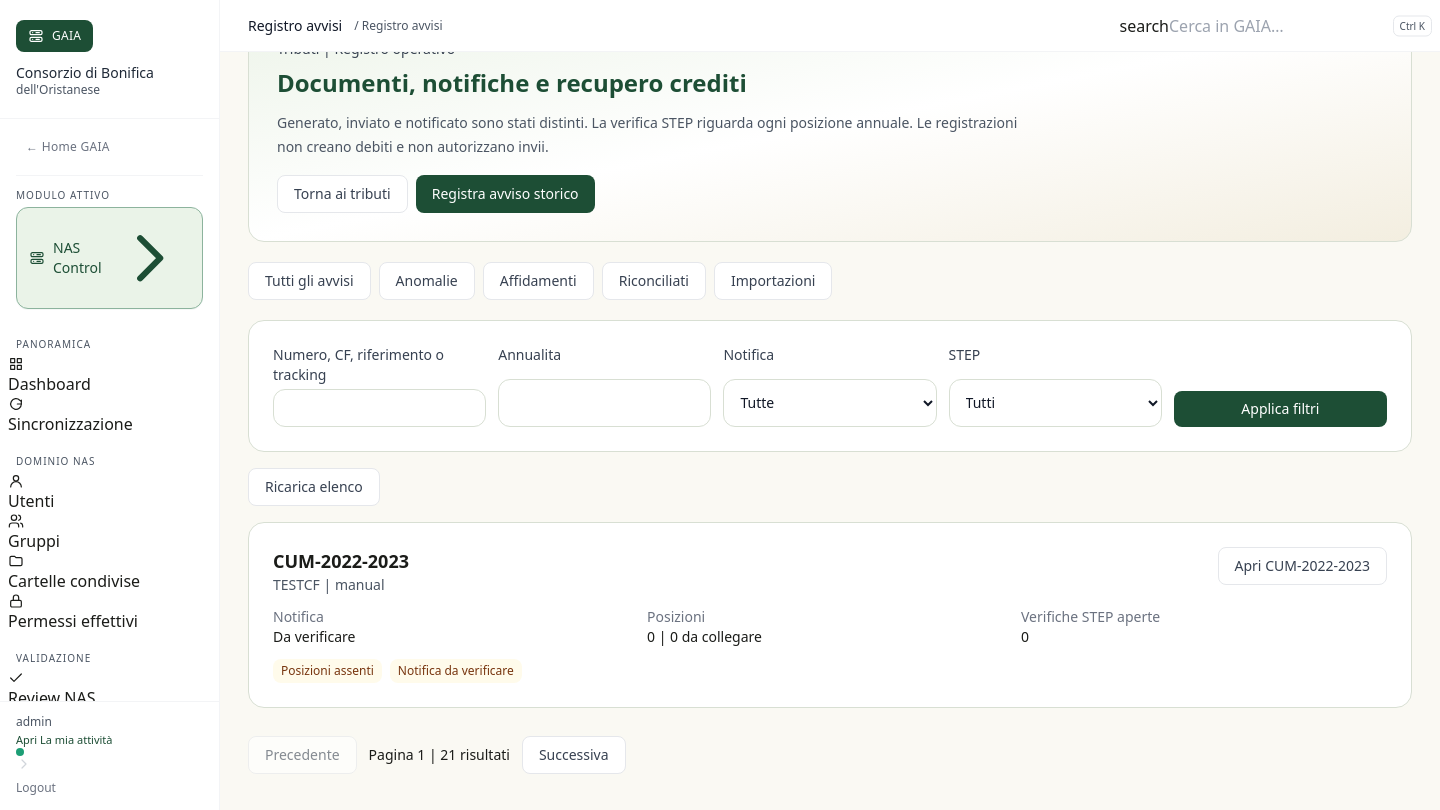
it: registro avvisi workspace › applies all filters, resets page and supports refresh
(page scrolled)
Check: the button "Apri CUM-2022-2023" is shown, box [1218, 547, 1387, 585]
Click the button "Successiva".
click(574, 755)  # box [522, 736, 626, 774]
(page scrolled)
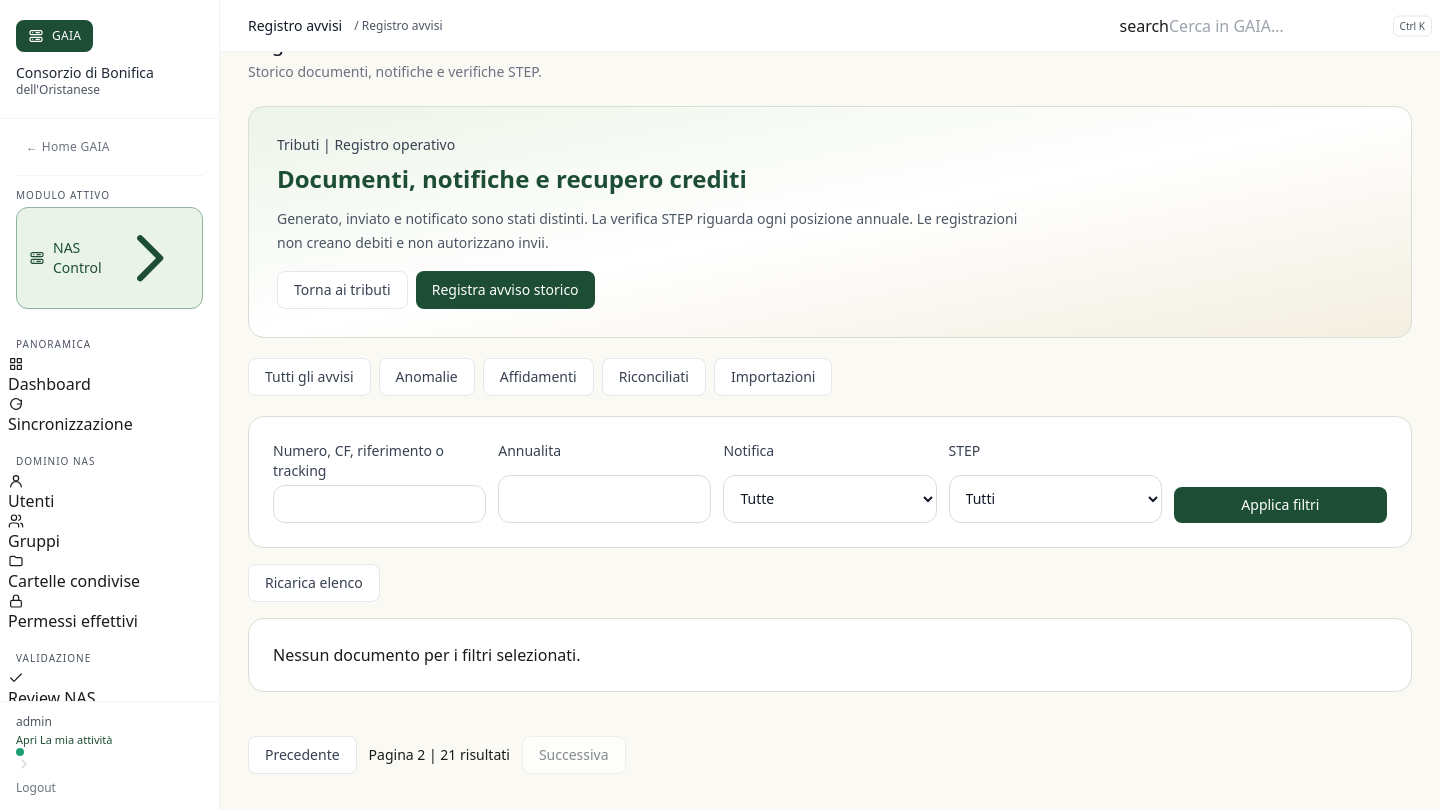
Check: the text "Nessun documento per i filtri selezionati." is shown, box [248, 618, 1412, 692]
Click the button "Precedente".
click(302, 755)  # box [248, 736, 357, 774]
(page scrolled)
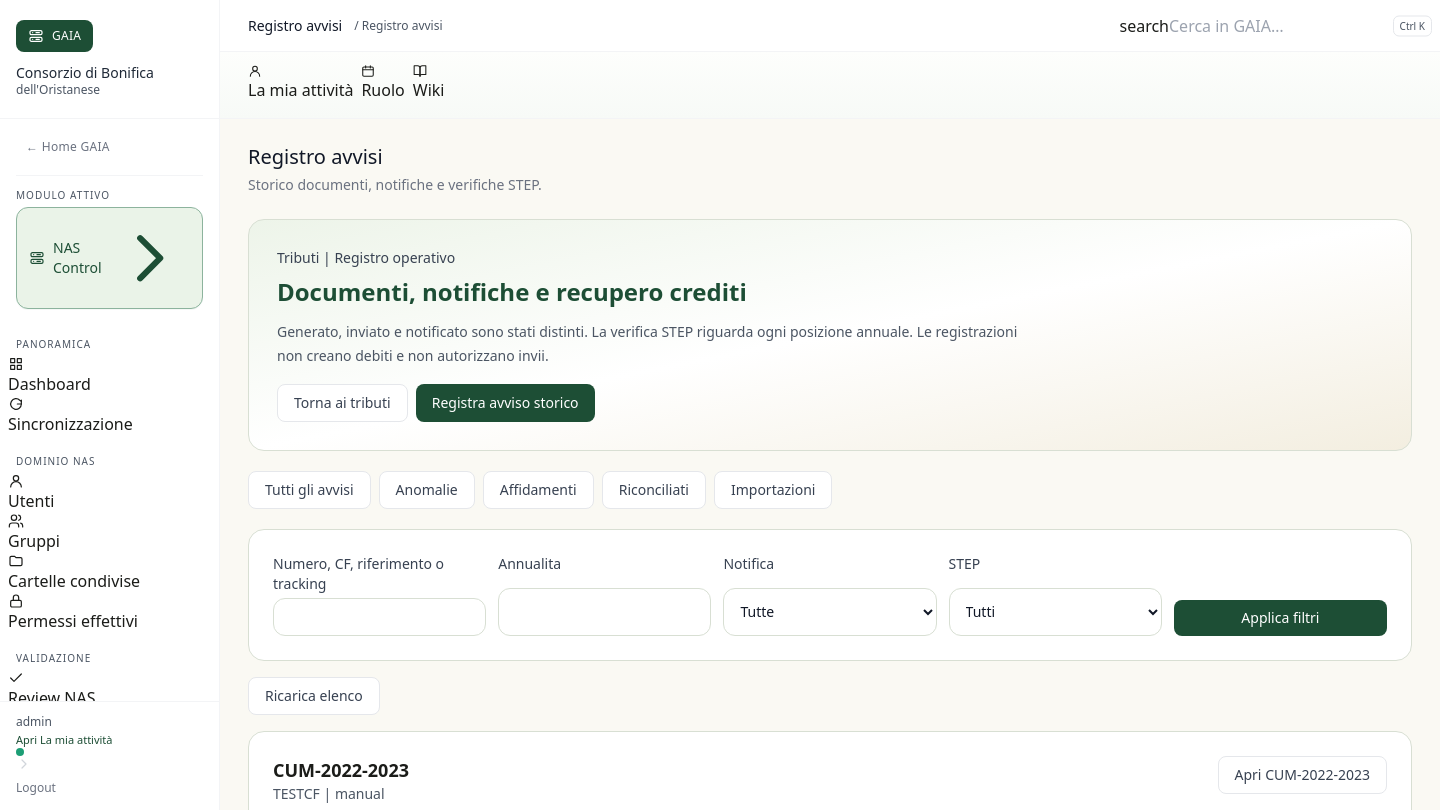
Check: the button "Apri CUM-2022-2023" is shown, box [1218, 756, 1387, 794]
Type "  RIF%_  " into the search field labelled "Numero, CF, riferimento o tracking".
click(380, 617); type("  RIF%_  ")  # box [273, 598, 486, 636]
Type "2022" into the number field labelled "Annualita".
click(605, 612); type("2022")  # box [498, 588, 711, 636]
Select "Perfezionata" in the dropdown labelled "Notifica" at (830, 612), box [723, 588, 937, 636]
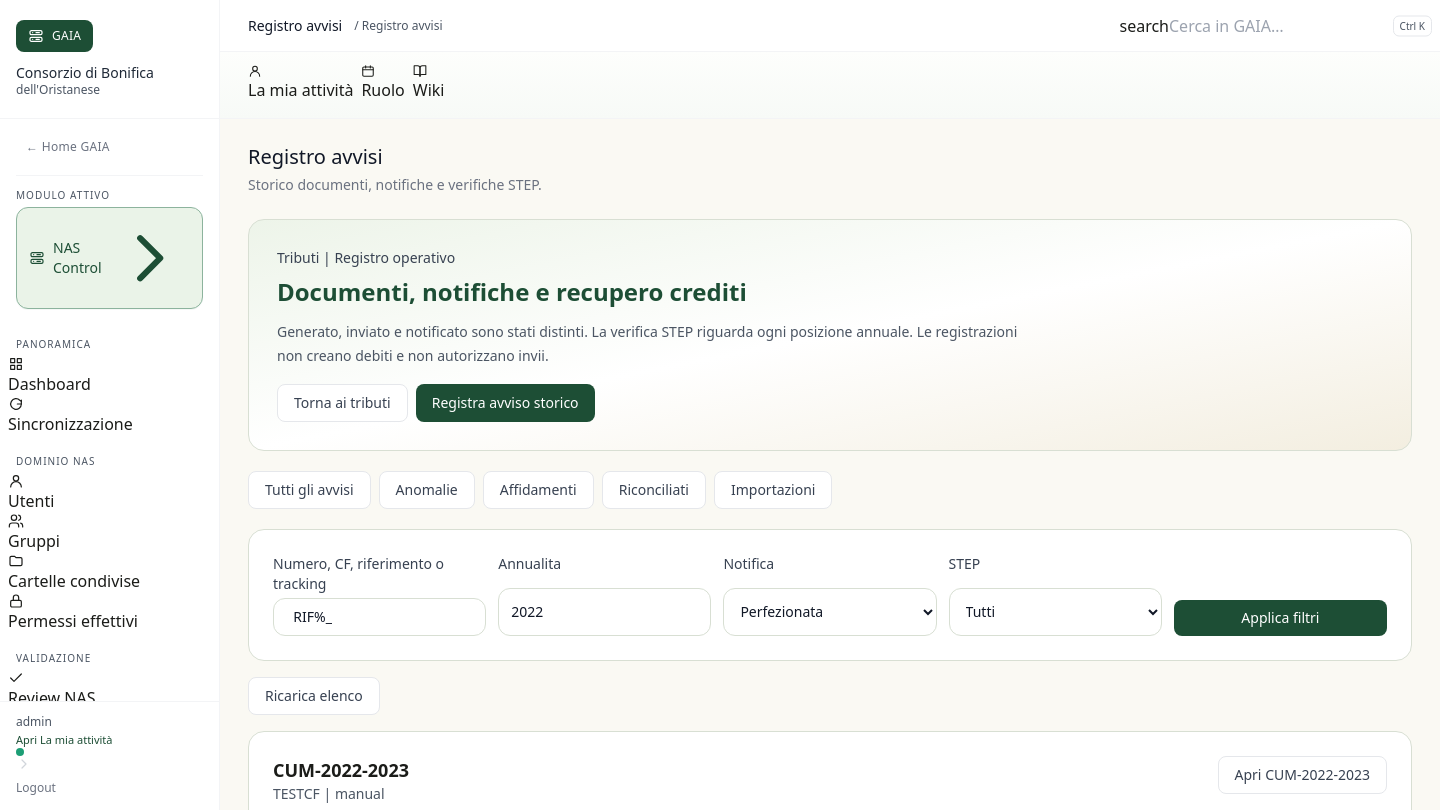
Select "Affidato" in the dropdown labelled "STEP" at (1055, 612), box [949, 588, 1162, 636]
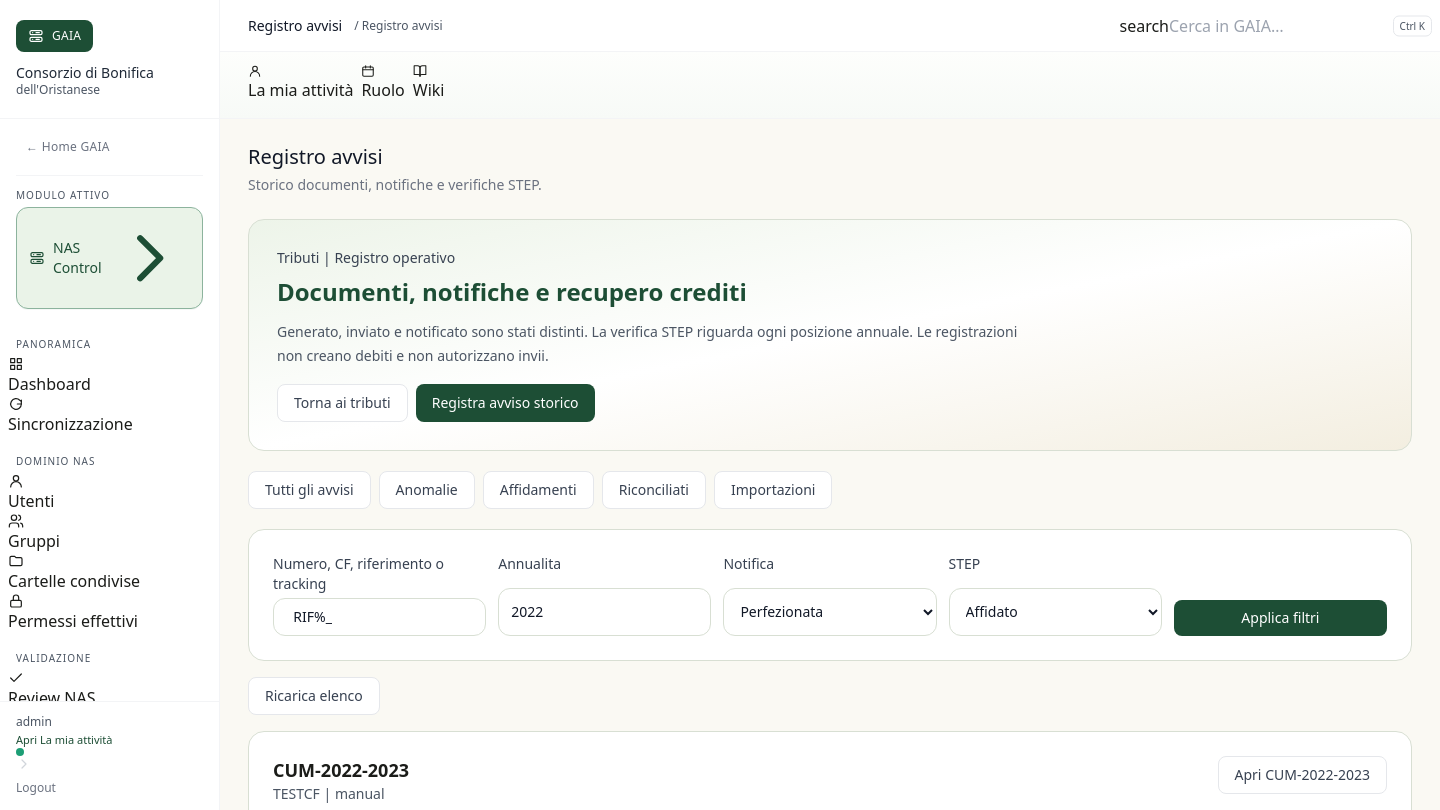
Submit the form named "Filtri registro", box [273, 554, 1387, 636]
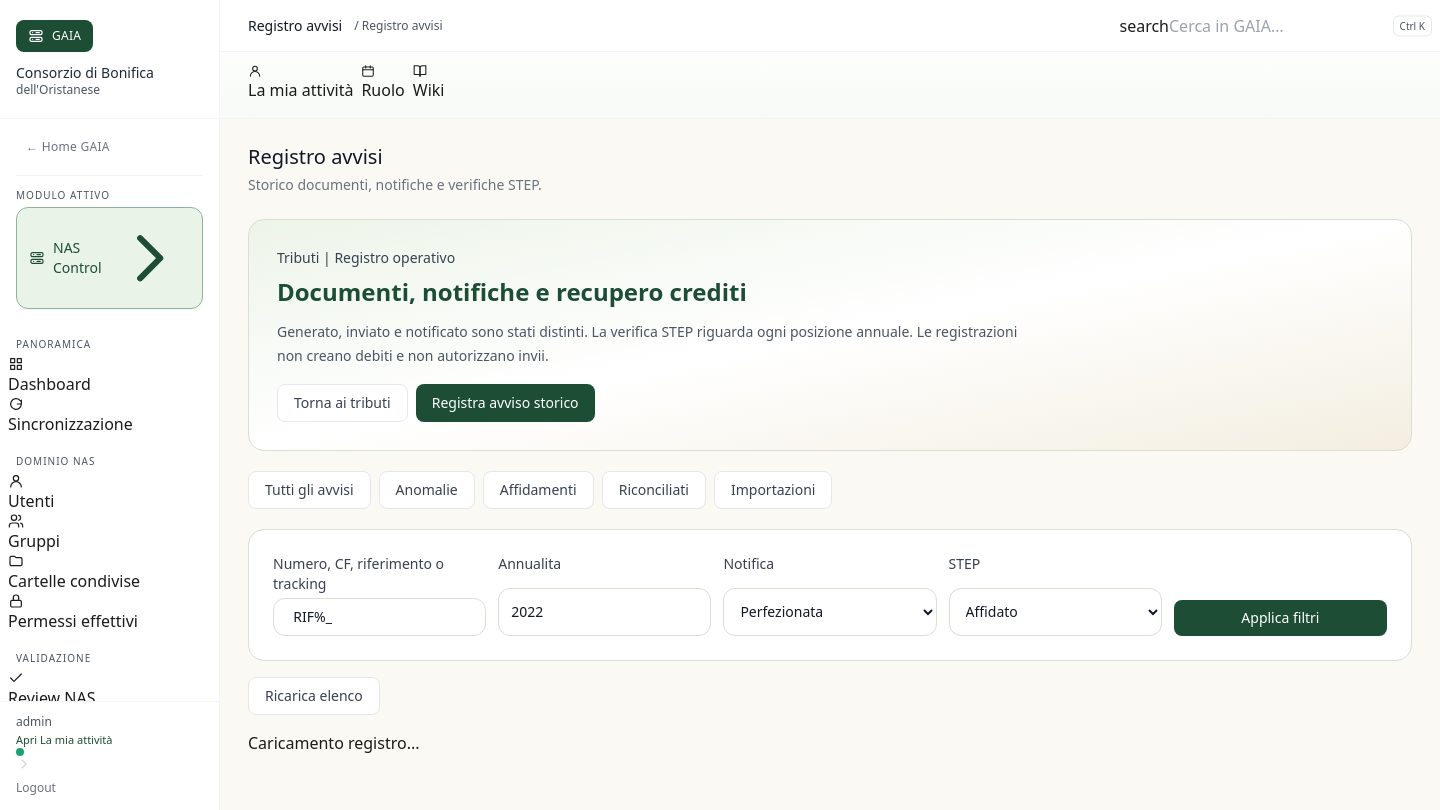
Click the button "Ricarica elenco".
click(314, 696)  # box [248, 677, 380, 715]
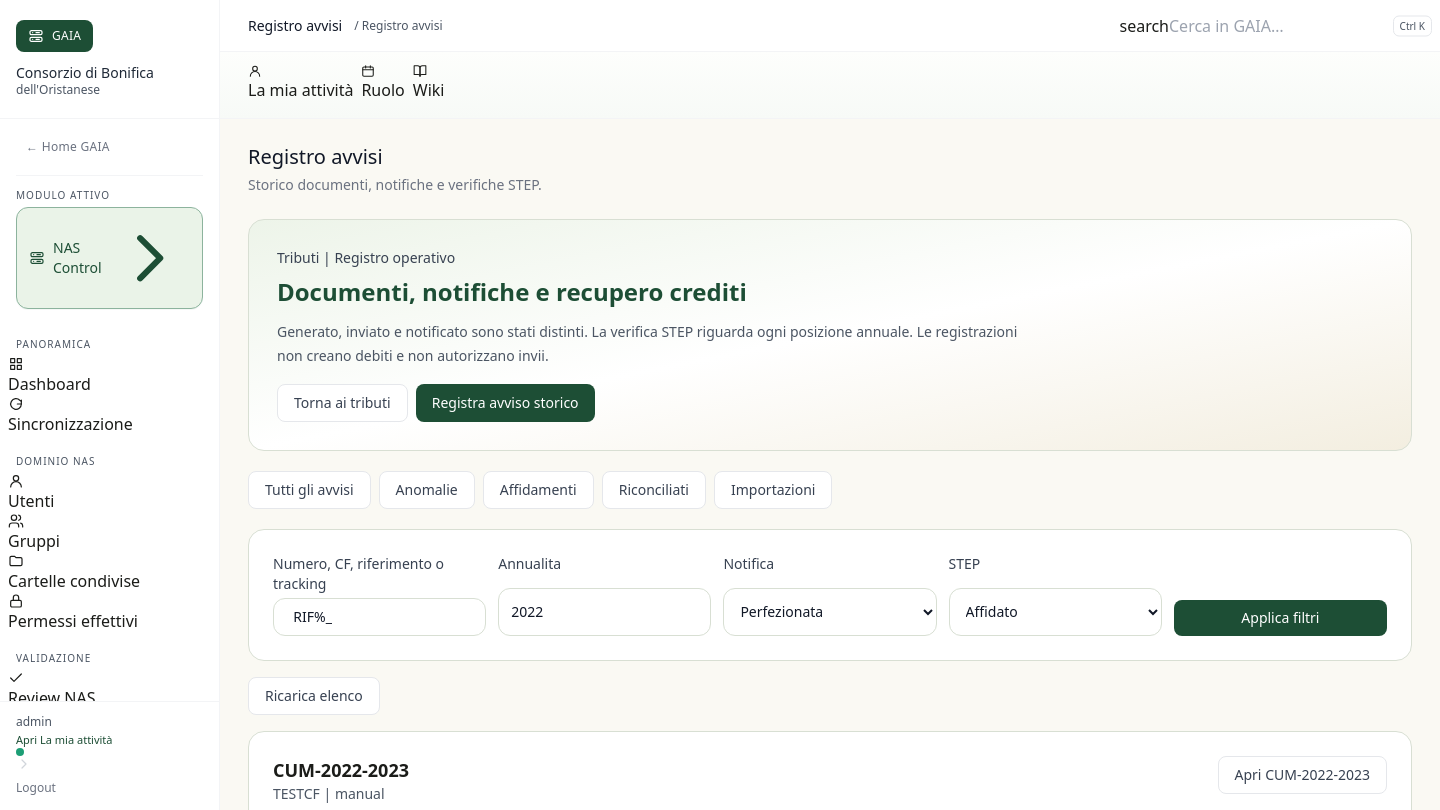
Check: the button "Apri CUM-2022-2023" is shown, box [1218, 756, 1387, 794]
